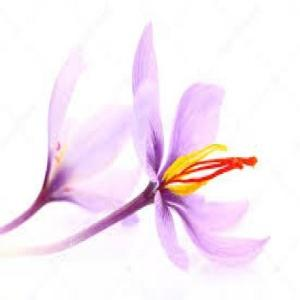Saffron: (132, 18, 273, 273), (46, 45, 141, 230)
